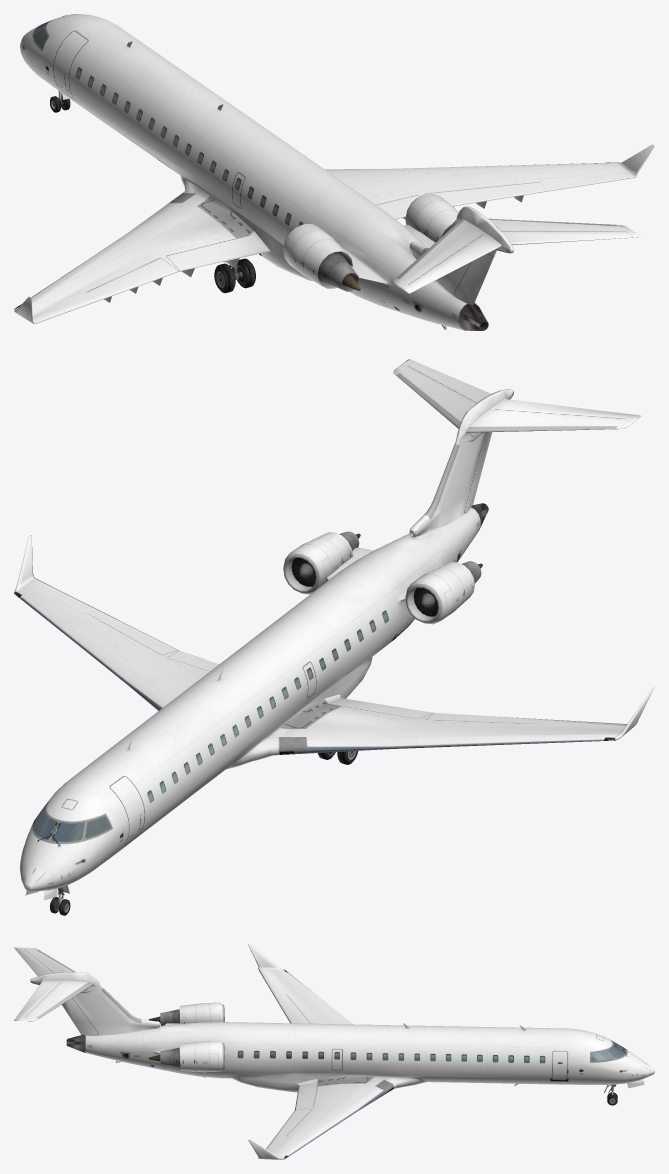
The model's file is CivilianPlane.glb.
The picture shows the model from 3 angles, top to bottom: view 1: azimuth 30°, elevation 25°; view 2: azimuth 150°, elevation 25°; view 3: azimuth 270°, elevation 25°; orthographic projection. The views are drawn at different scales.
Parts seen in each view (by area): view 1: CRJ_700_Air_Canada; view 2: CRJ_700_Air_Canada; view 3: CRJ_700_Air_Canada.
Part boxes in pixels (bbox=[...]): CRJ_700_Air_Canada: bbox=[14, 14, 654, 330]; CRJ_700_Air_Canada: bbox=[14, 359, 654, 915]; CRJ_700_Air_Canada: bbox=[14, 944, 654, 1159].
Bounding box in the file's own units: 23.3 × 7.28 × 32.19.
1 material, 1 textured.
